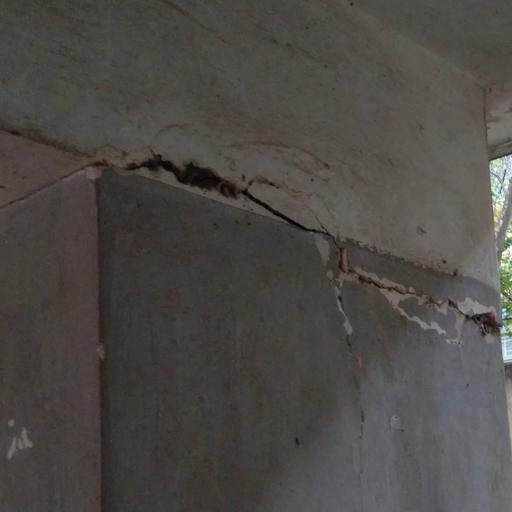major_crack: (29, 103, 502, 362)
